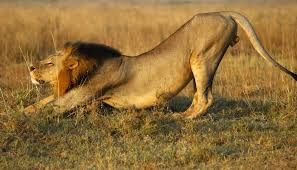lion: (21, 9, 297, 122)
